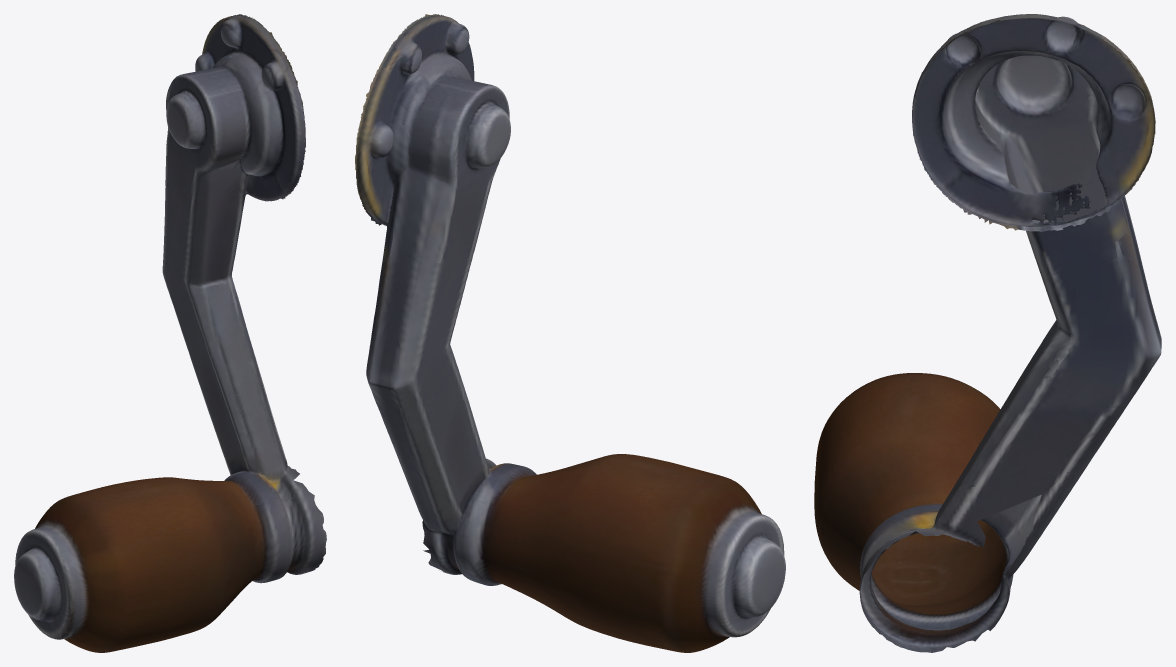
File: crank_gatling_crank.glb
3 renders of one model, left to right at view 1: azimuth 30°, elevation 25°; view 2: azimuth 150°, elevation 25°; view 3: azimuth 270°, elevation 25°, orthographic. The views are drawn at different scales.
Parts seen in each view (by area): view 1: crank; view 2: crank; view 3: crank.
Part boxes in pixels (x1,y1,x2,y2): crank: (14,14,326,652); crank: (355,14,785,652); crank: (814,14,1161,652).
Bounding box in the file's own units: 0.0692 × 0.1286 × 0.061.
Materials: 1 (1 with a texture image).
